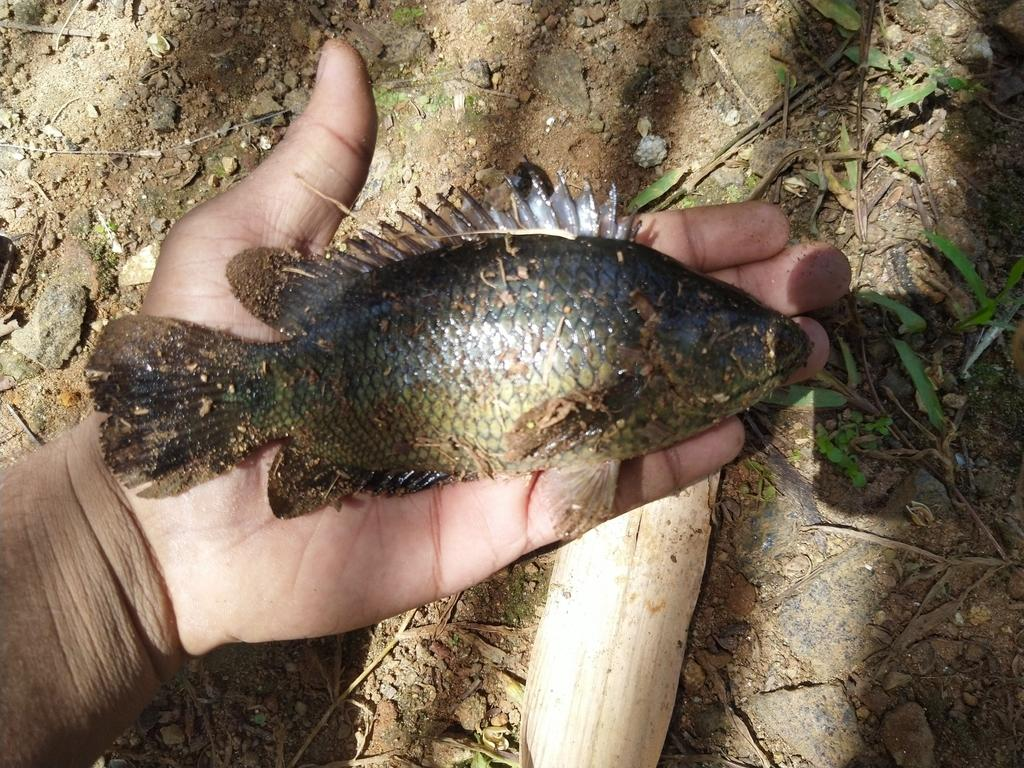Climbing Perch: (85, 168, 812, 520)
